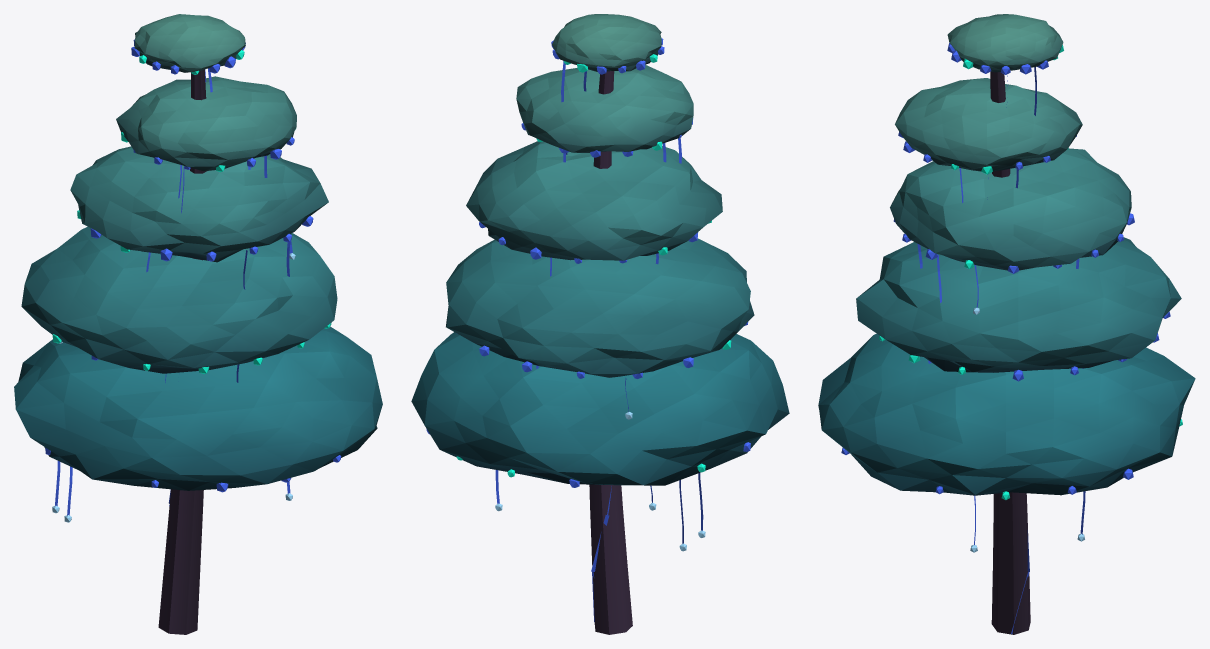
The model's file is SM_PandoraTree_Pine.fbx.
3 views of the same model, side by side, from view 1: azimuth 30°, elevation 25°; view 2: azimuth 150°, elevation 25°; view 3: azimuth 270°, elevation 25° (orthographic).
Visible parts, largest first — view 1: SM_PandoraTree_Pine; view 2: SM_PandoraTree_Pine; view 3: SM_PandoraTree_Pine.
Part boxes in pixels (<box>): SM_PandoraTree_Pine: <box>14,14,382,634</box>; SM_PandoraTree_Pine: <box>411,14,789,634</box>; SM_PandoraTree_Pine: <box>818,14,1195,634</box>.
Size of what is drawn, in the model's own units: 6.79 by 11.92 by 6.76.
